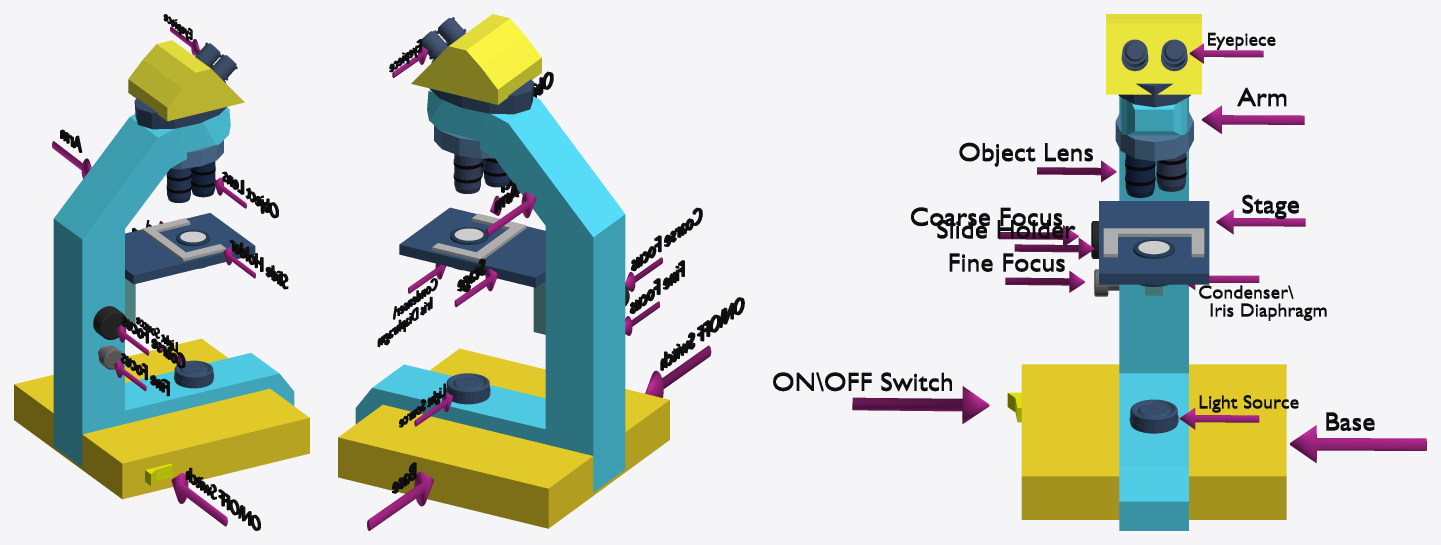
The model's file is microscope.fbx.
3 views of the same model, side by side, from view 1: azimuth 30°, elevation 25°; view 2: azimuth 150°, elevation 25°; view 3: azimuth 270°, elevation 25° (orthographic). The views are drawn at different scales.
Visible parts, largest first — view 1: Cube.001, Cube, Cube.006, Cube.004, Cylinder.004, Cube.005, Text, Cylinder.001, Cylinder.084, Cylinder.006, Cylinder, Cylinder.007 (+12 smaller); view 2: Cube.001, Cube, Cube.006, Cube.004, Cylinder.004, Cube.005, Text, Cylinder.001, Cylinder.011, Text.008, Cylinder.008, Cylinder.003 (+11 smaller); view 3: Cube, Cube.001, Cube.004, Cube.006, Cylinder.084, Cylinder.011, Cylinder.003, Text, Cube.005, Cylinder.001, Text.008, Text.005 (+9 smaller).
Boxes of the visible parts, box(x1,y1,x2,y2) form: Cube.001: box(53, 107, 294, 466); Cube: box(14, 338, 309, 499); Cube.006: box(128, 40, 244, 121); Cube.004: box(125, 213, 255, 284); Cylinder.004: box(134, 81, 226, 129); Cube.005: box(142, 218, 226, 261); Text: box(185, 467, 260, 530); Cylinder.001: box(174, 360, 213, 388); Cylinder.084: box(171, 473, 227, 526); Cylinder.006: box(166, 167, 191, 202); Cylinder: box(93, 306, 126, 339); Cylinder.007: box(191, 161, 215, 197); Cube.001: box(355, 90, 625, 492); Cube: box(338, 348, 669, 528); Cube.006: box(411, 14, 541, 104); Cube.004: box(399, 207, 545, 287); Cylinder.004: box(429, 60, 534, 114); Cube.005: box(432, 213, 526, 261); Text: box(660, 297, 744, 370); Cylinder.001: box(446, 373, 490, 404); Cylinder.011: box(367, 471, 433, 530); Text.008: box(377, 278, 437, 347); Cylinder.008: box(453, 154, 481, 193); Cylinder.003: box(434, 125, 493, 158); Cube: box(1021, 364, 1286, 519); Cube.001: box(1119, 96, 1188, 530); Cube.004: box(1099, 201, 1209, 284); Cube.006: box(1106, 14, 1201, 94); Cylinder.084: box(852, 386, 989, 423); Cylinder.011: box(1290, 425, 1426, 462); Cylinder.003: box(1115, 112, 1193, 161); Text: box(773, 372, 951, 391); Cube.005: box(1103, 228, 1204, 257); Cylinder.001: box(1129, 399, 1178, 433); Text.008: box(1199, 285, 1326, 320); Text.005: box(937, 220, 1075, 238).
Size of the model in its own units: 80.21 by 137 by 175.
